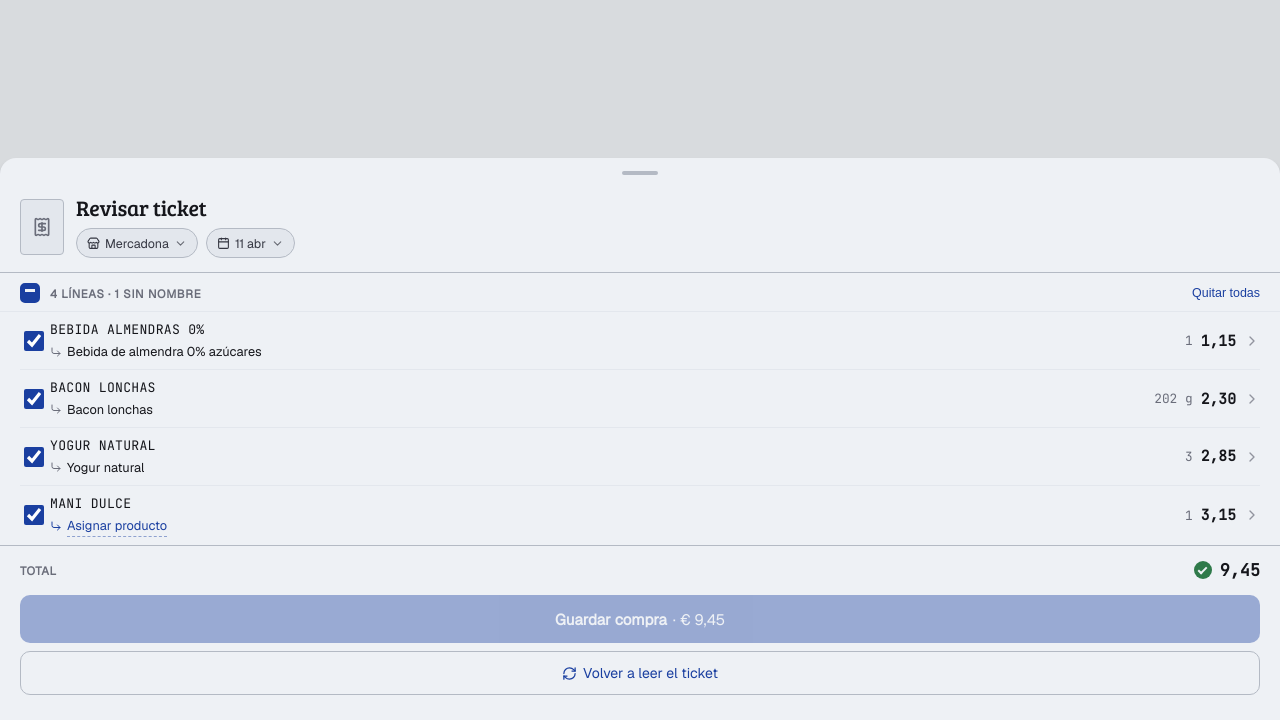
ReceiptScanSheet — save gating › "Quitar todas" clears every line and disables save
The image size is (1280, 720).
Click the button "Quitar todas" at (1226, 293), box [1192, 286, 1260, 300]
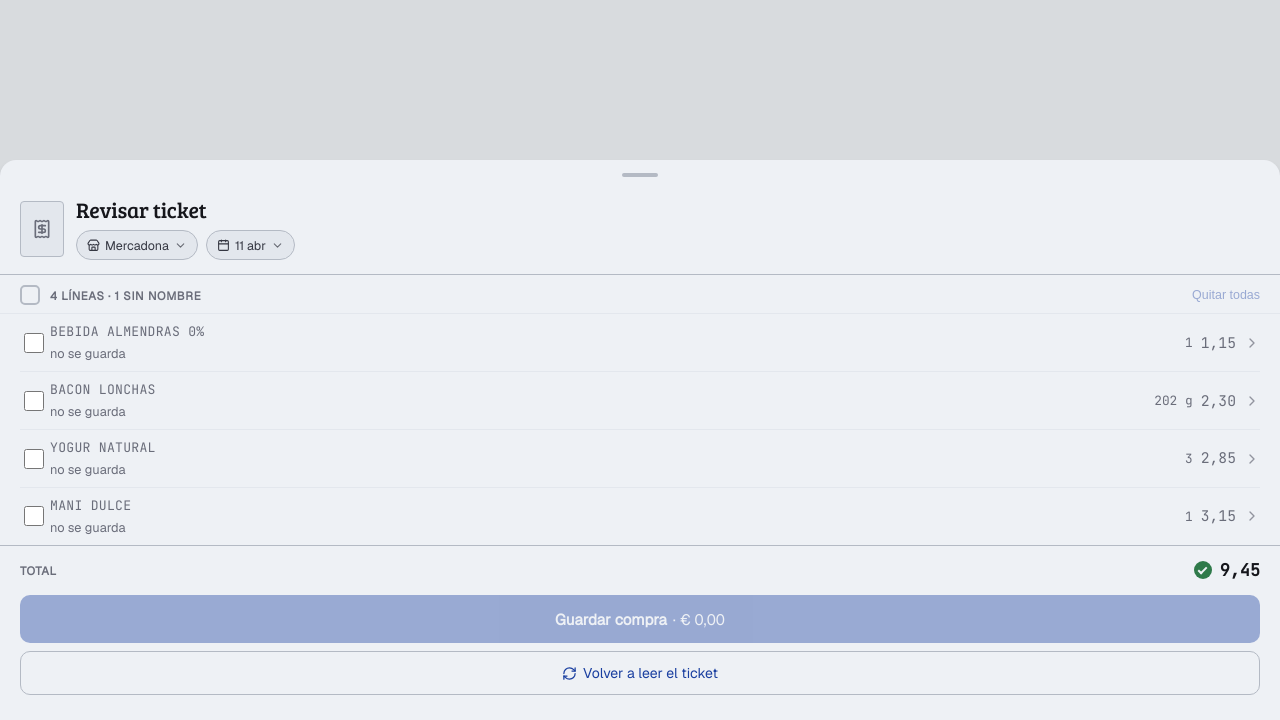
Expected: the checkbox named "Guardar «BEBIDA ALMENDRAS 0%»" is not checked, [24, 333, 44, 353]
Expected: the checkbox named "Guardar «BACON LONCHAS»" is not checked, [24, 391, 44, 411]
Expected: the checkbox named "Guardar «YOGUR NATURAL»" is not checked, [24, 448, 44, 468]
